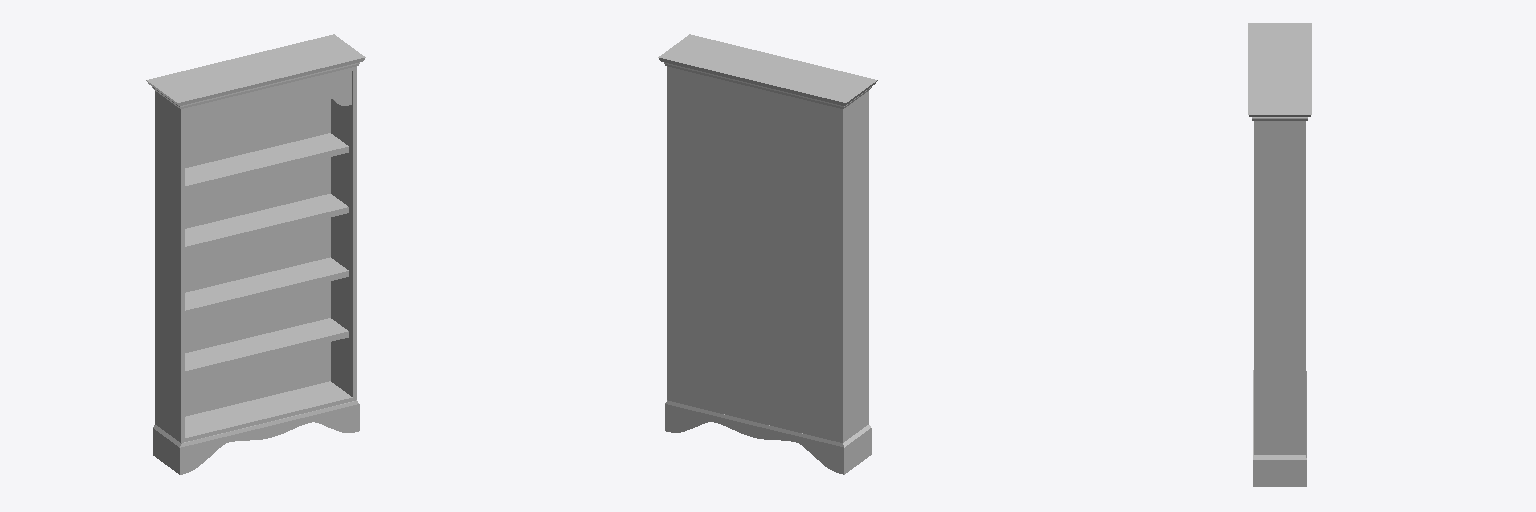
The model's file is library_shelf.obj.
3 views of the same model, side by side, from view 1: azimuth 30°, elevation 25°; view 2: azimuth 150°, elevation 25°; view 3: azimuth 270°, elevation 25° (orthographic).
Parts seen in each view (by area): view 1: Layer_01; view 2: Layer_01; view 3: Layer_01.
Part boxes in pixels (x1,y1,x2,y2): Layer_01: (146,34,365,474); Layer_01: (658,34,877,474); Layer_01: (1248,23,1311,486).
Size of the model in its own units: 42.89 by 81.63 by 12.52.